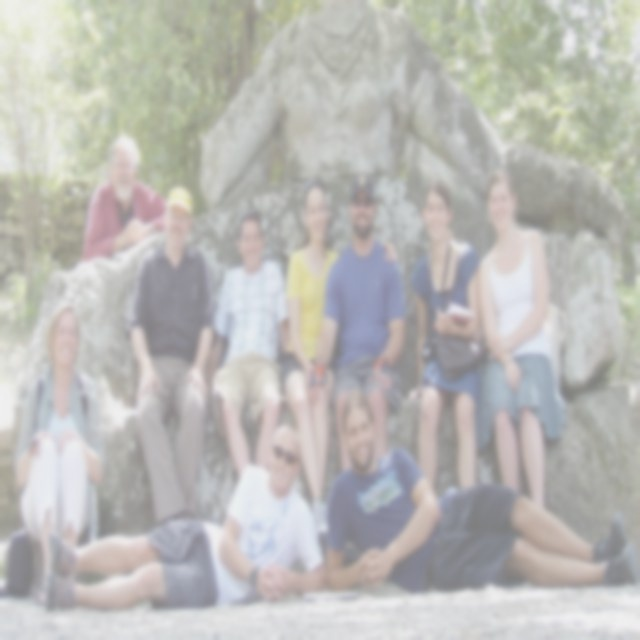pessoa: (320, 382, 640, 596), (40, 421, 328, 614), (278, 167, 402, 559), (124, 182, 220, 528), (306, 170, 408, 478), (12, 298, 108, 613), (478, 166, 562, 512), (202, 204, 294, 487), (408, 175, 483, 497), (82, 132, 170, 263)
